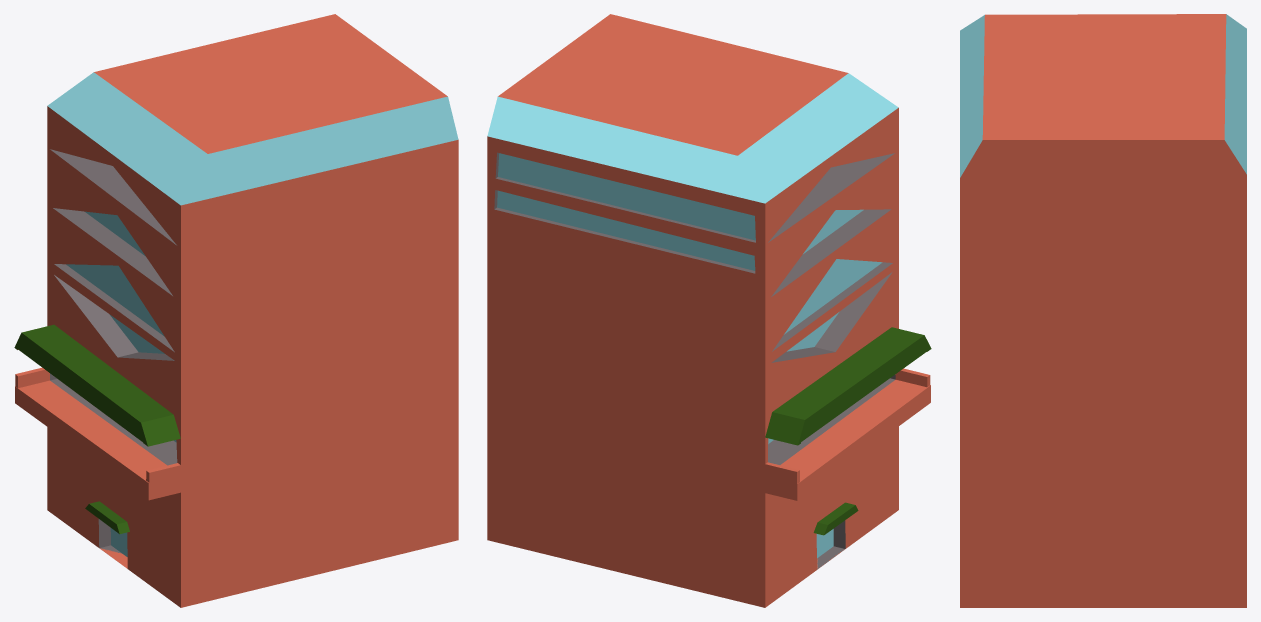
Rendered from casa1.glb.
The picture shows the model from 3 angles, left to right: view 1: azimuth 30°, elevation 25°; view 2: azimuth 150°, elevation 25°; view 3: azimuth 270°, elevation 25°; orthographic projection. The views are drawn at different scales.
Parts seen in each view (by area): view 1: Cubo; view 2: Cubo; view 3: Cubo.
Boxes of the visible parts, bbox=[...] form: Cubo: bbox=[14, 14, 458, 607]; Cubo: bbox=[487, 14, 931, 607]; Cubo: bbox=[960, 14, 1246, 607].
Bounding box in the file's own units: 13.42 × 18 × 10.
